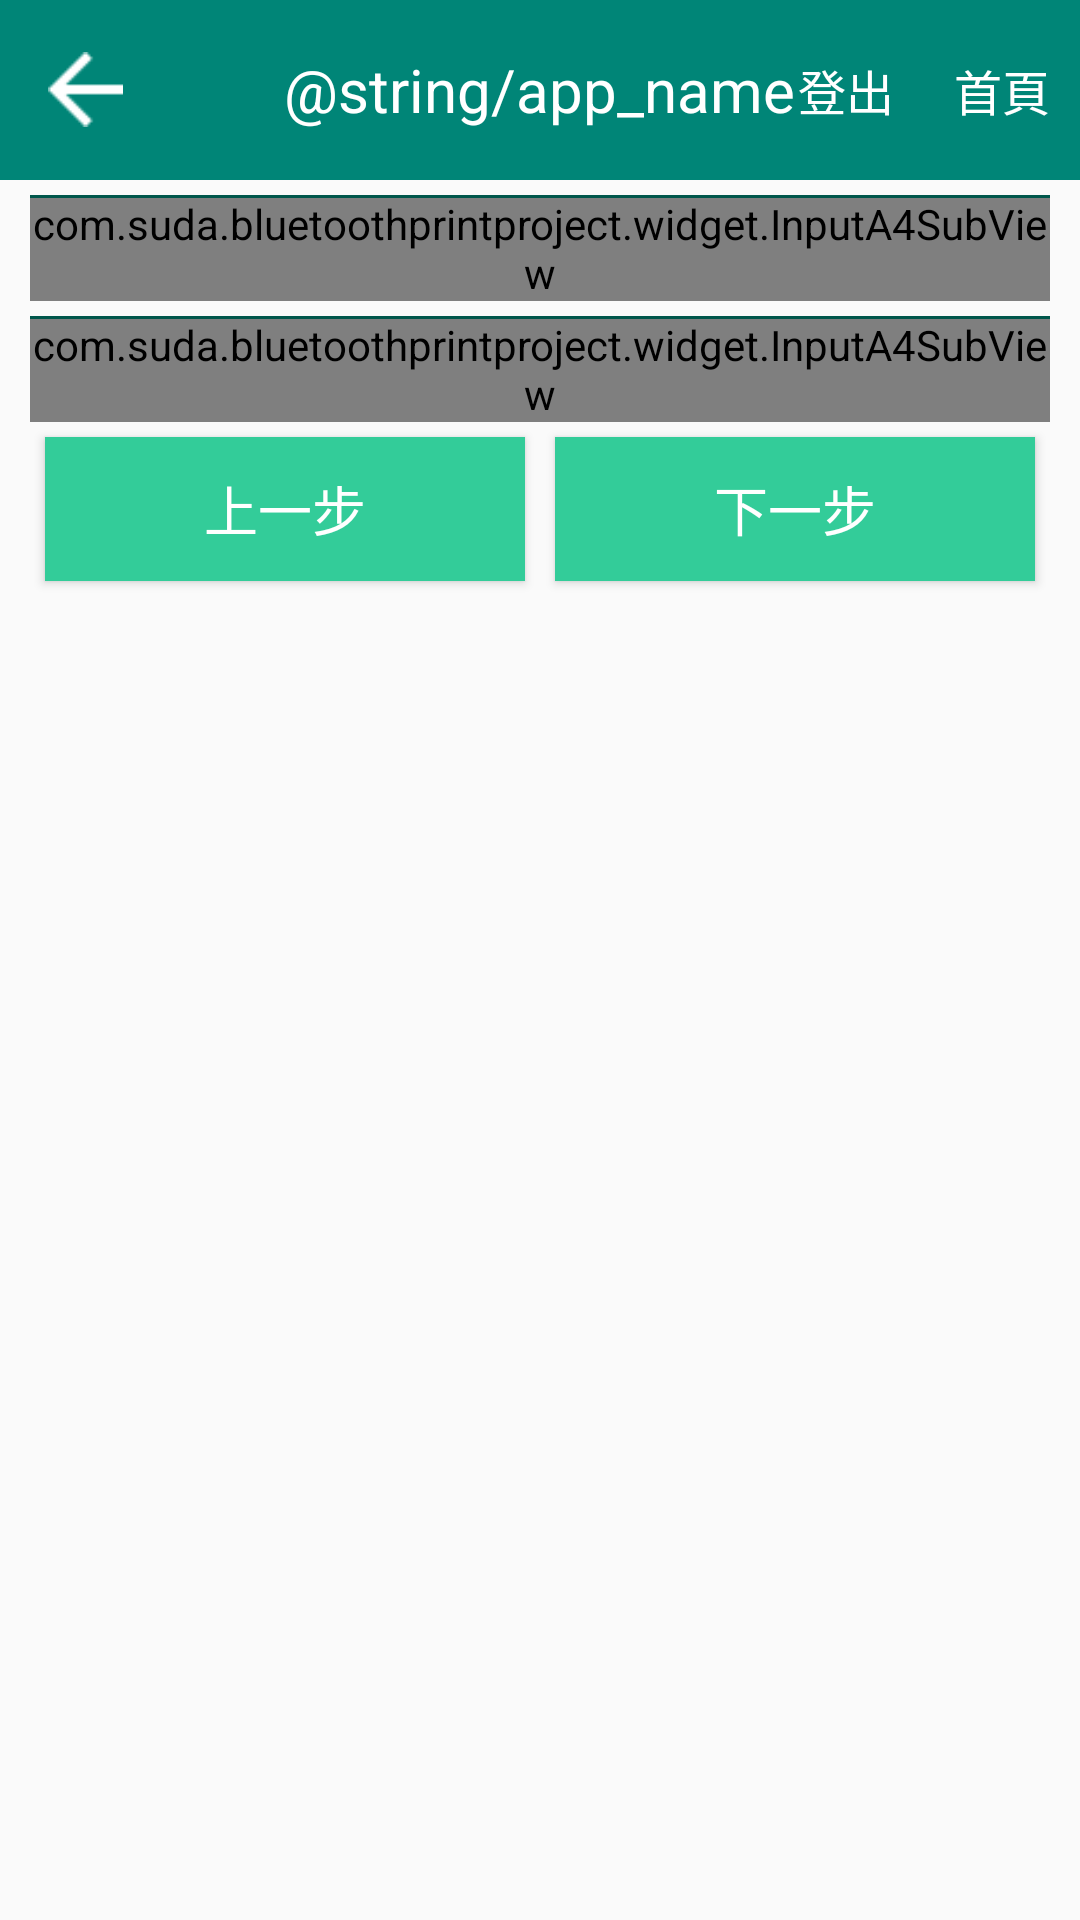

Locate icon controls on the screen. Image size 1080*1920, boxes as (x1=x1, y1=y1, x2=x2, y2=y2).
back: (x1=48, y1=52, x2=123, y2=127)
